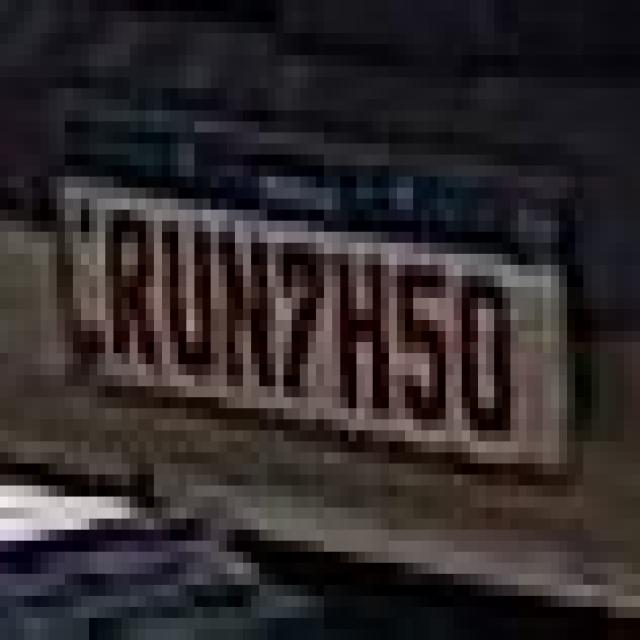0: (462, 250, 522, 444)
5: (392, 249, 453, 448)
7: (278, 227, 331, 408)
H: (339, 242, 394, 420)
N: (209, 211, 278, 397)
R: (103, 192, 160, 369)
U: (155, 204, 220, 380)
